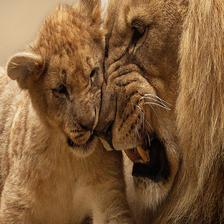Lion: (94, 1, 224, 223), (5, 7, 107, 164)
